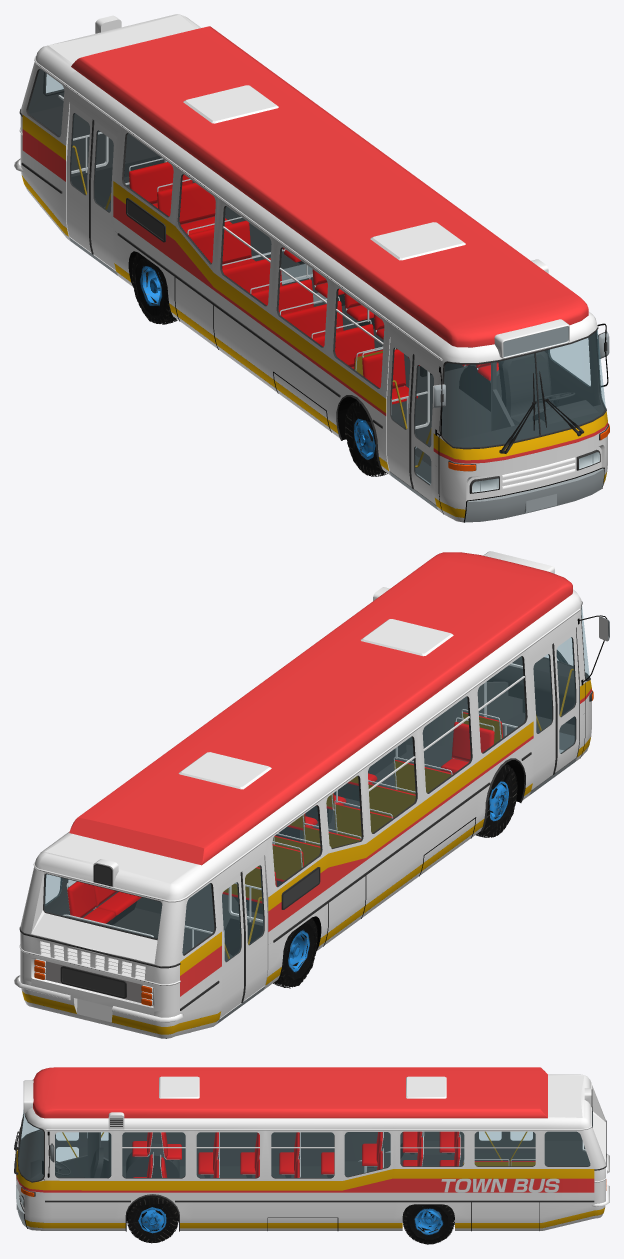
File: bus-town.glb
3 renders of one model, top to bottom at view 1: azimuth 30°, elevation 25°; view 2: azimuth 150°, elevation 25°; view 3: azimuth 270°, elevation 25°, orthographic. The views are drawn at different scales.
Parts seen in each view (by area): view 1: Object_34, Object_25, Object_16, Object_22, Object_24, Object_33, Object_23, Object_27, Object_17, Object_26, Object_12, Object_10 (+7 smaller); view 2: Object_25, Object_34, Object_16, Object_22, Object_33, Object_35, Object_23, Object_24, Object_27, Object_32, Object_12, Object_10 (+4 smaller); view 3: Object_25, Object_34, Object_16, Object_33, Object_27, Object_22, Object_24, Object_23, Object_11, Object_14, Object_32, Object_2 (+4 smaller).
Boxes of the visible parts, x1=… form: Object_34: x1=22, y1=26, x2=607, y2=463; Object_25: x1=20, y1=14, x2=607, y2=522; Object_16: x1=28, y1=69, x2=605, y2=492; Object_22: x1=26, y1=69, x2=608, y2=493; Object_24: x1=129, y1=162, x2=498, y2=404; Object_33: x1=21, y1=115, x2=607, y2=517; Object_23: x1=19, y1=72, x2=607, y2=488; Object_27: x1=28, y1=69, x2=602, y2=505; Object_17: x1=69, y1=237, x2=604, y2=522; Object_26: x1=58, y1=95, x2=569, y2=467; Object_12: x1=132, y1=252, x2=177, y2=324; Object_10: x1=345, y1=400, x2=387, y2=476; Object_25: x1=20, y1=587, x2=591, y2=1038; Object_34: x1=69, y1=552, x2=591, y2=996; Object_16: x1=44, y1=609, x2=589, y2=961; Object_22: x1=45, y1=637, x2=592, y2=962; Object_33: x1=22, y1=680, x2=591, y2=1034; Object_35: x1=223, y1=668, x2=573, y2=959; Object_23: x1=19, y1=601, x2=590, y2=1010; Object_24: x1=67, y1=712, x2=502, y2=923; Object_27: x1=45, y1=627, x2=579, y2=955; Object_32: x1=14, y1=608, x2=580, y2=1022; Object_12: x1=273, y1=918, x2=317, y2=988; Object_10: x1=476, y1=764, x2=517, y2=837; Object_25: x1=16, y1=1074, x2=605, y2=1230; Object_34: x1=16, y1=1067, x2=594, y2=1192; Object_16: x1=18, y1=1112, x2=592, y2=1204; Object_33: x1=16, y1=1149, x2=604, y2=1228; Object_27: x1=36, y1=1129, x2=582, y2=1177; Object_22: x1=14, y1=1118, x2=590, y2=1207; Object_24: x1=132, y1=1131, x2=535, y2=1177; Object_23: x1=14, y1=1089, x2=606, y2=1231; Object_11: x1=126, y1=1195, x2=178, y2=1243; Object_14: x1=402, y1=1204, x2=454, y2=1244; Object_32: x1=46, y1=1082, x2=609, y2=1207; Object_2: x1=441, y1=1178, x2=559, y2=1192.
Bounding box in the file's own units: 2.92 × 2.97 × 12.
Materials: 20 (3 with a texture image).
